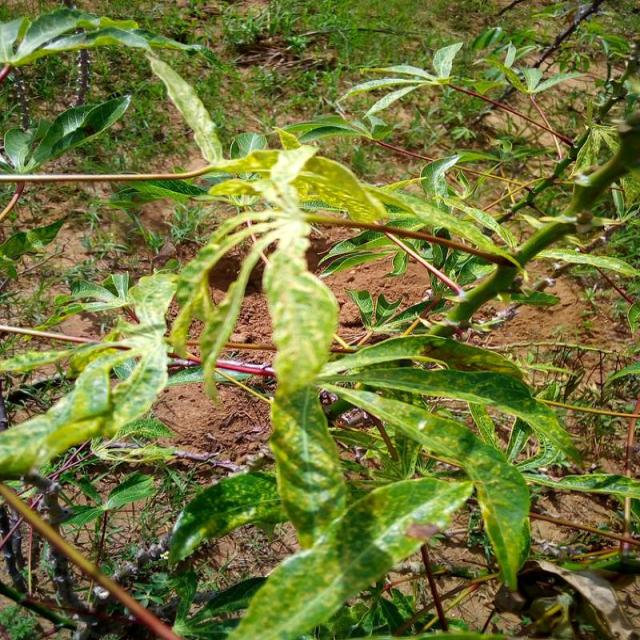cassava leaf: (320, 380, 532, 591), (225, 473, 474, 638)
